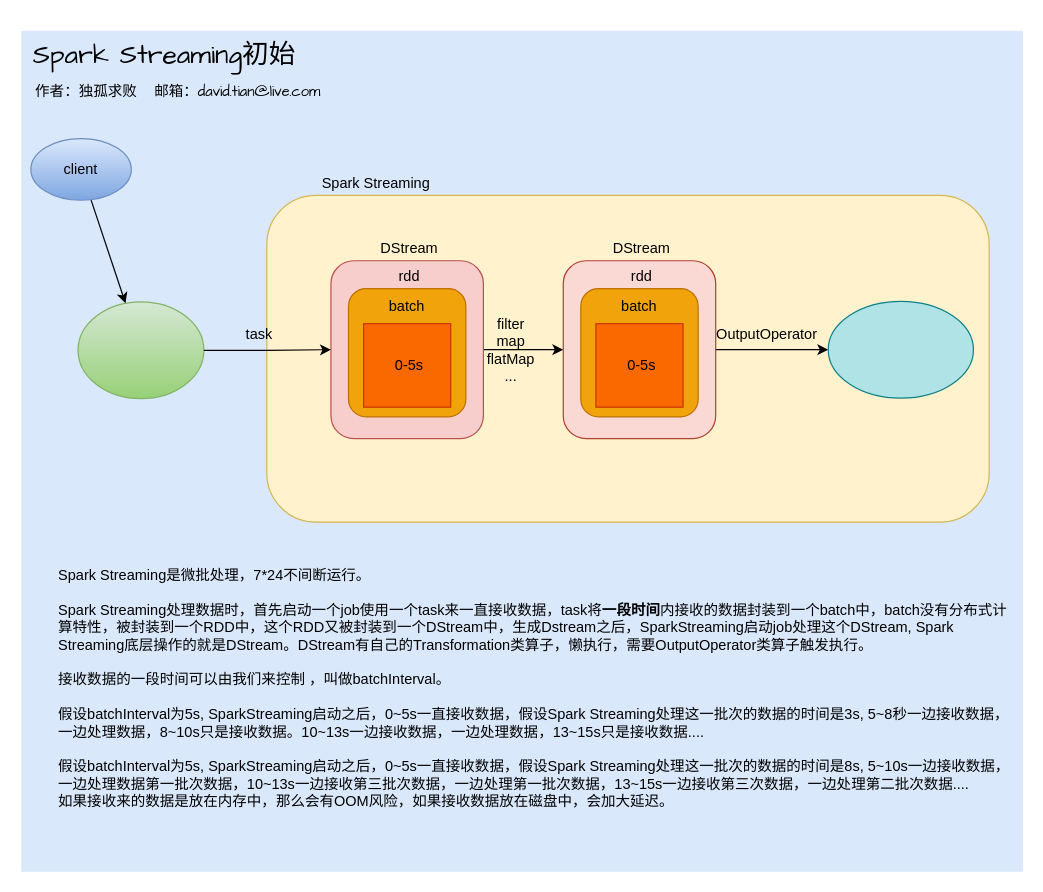
This 1043x892 diagram has some shape labels left out. The shapes that lost their labels are listed below. From the top down, each one's box as (x1, y1, x2, y2) in pixels, then its label:
(77, 301, 204, 399): socket 9999
(827, 300, 973, 398): result
